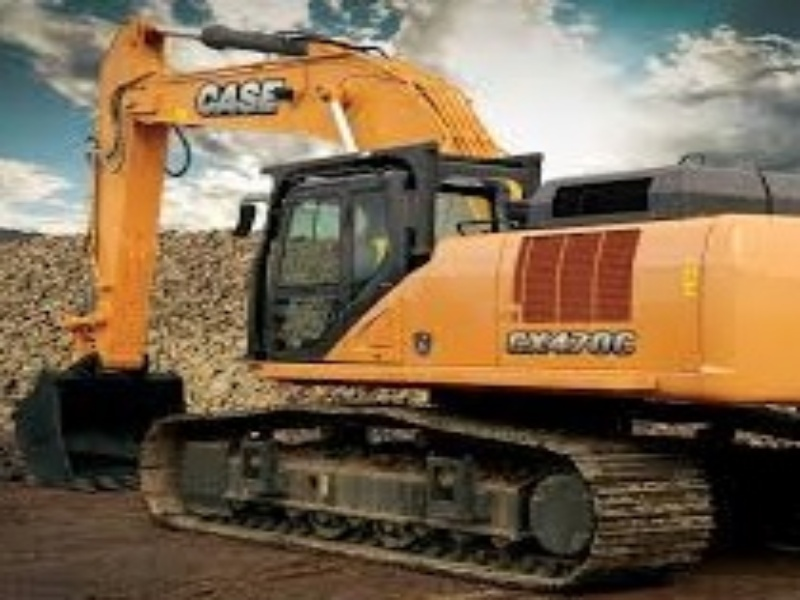wajueji: (118, 61, 799, 540)
